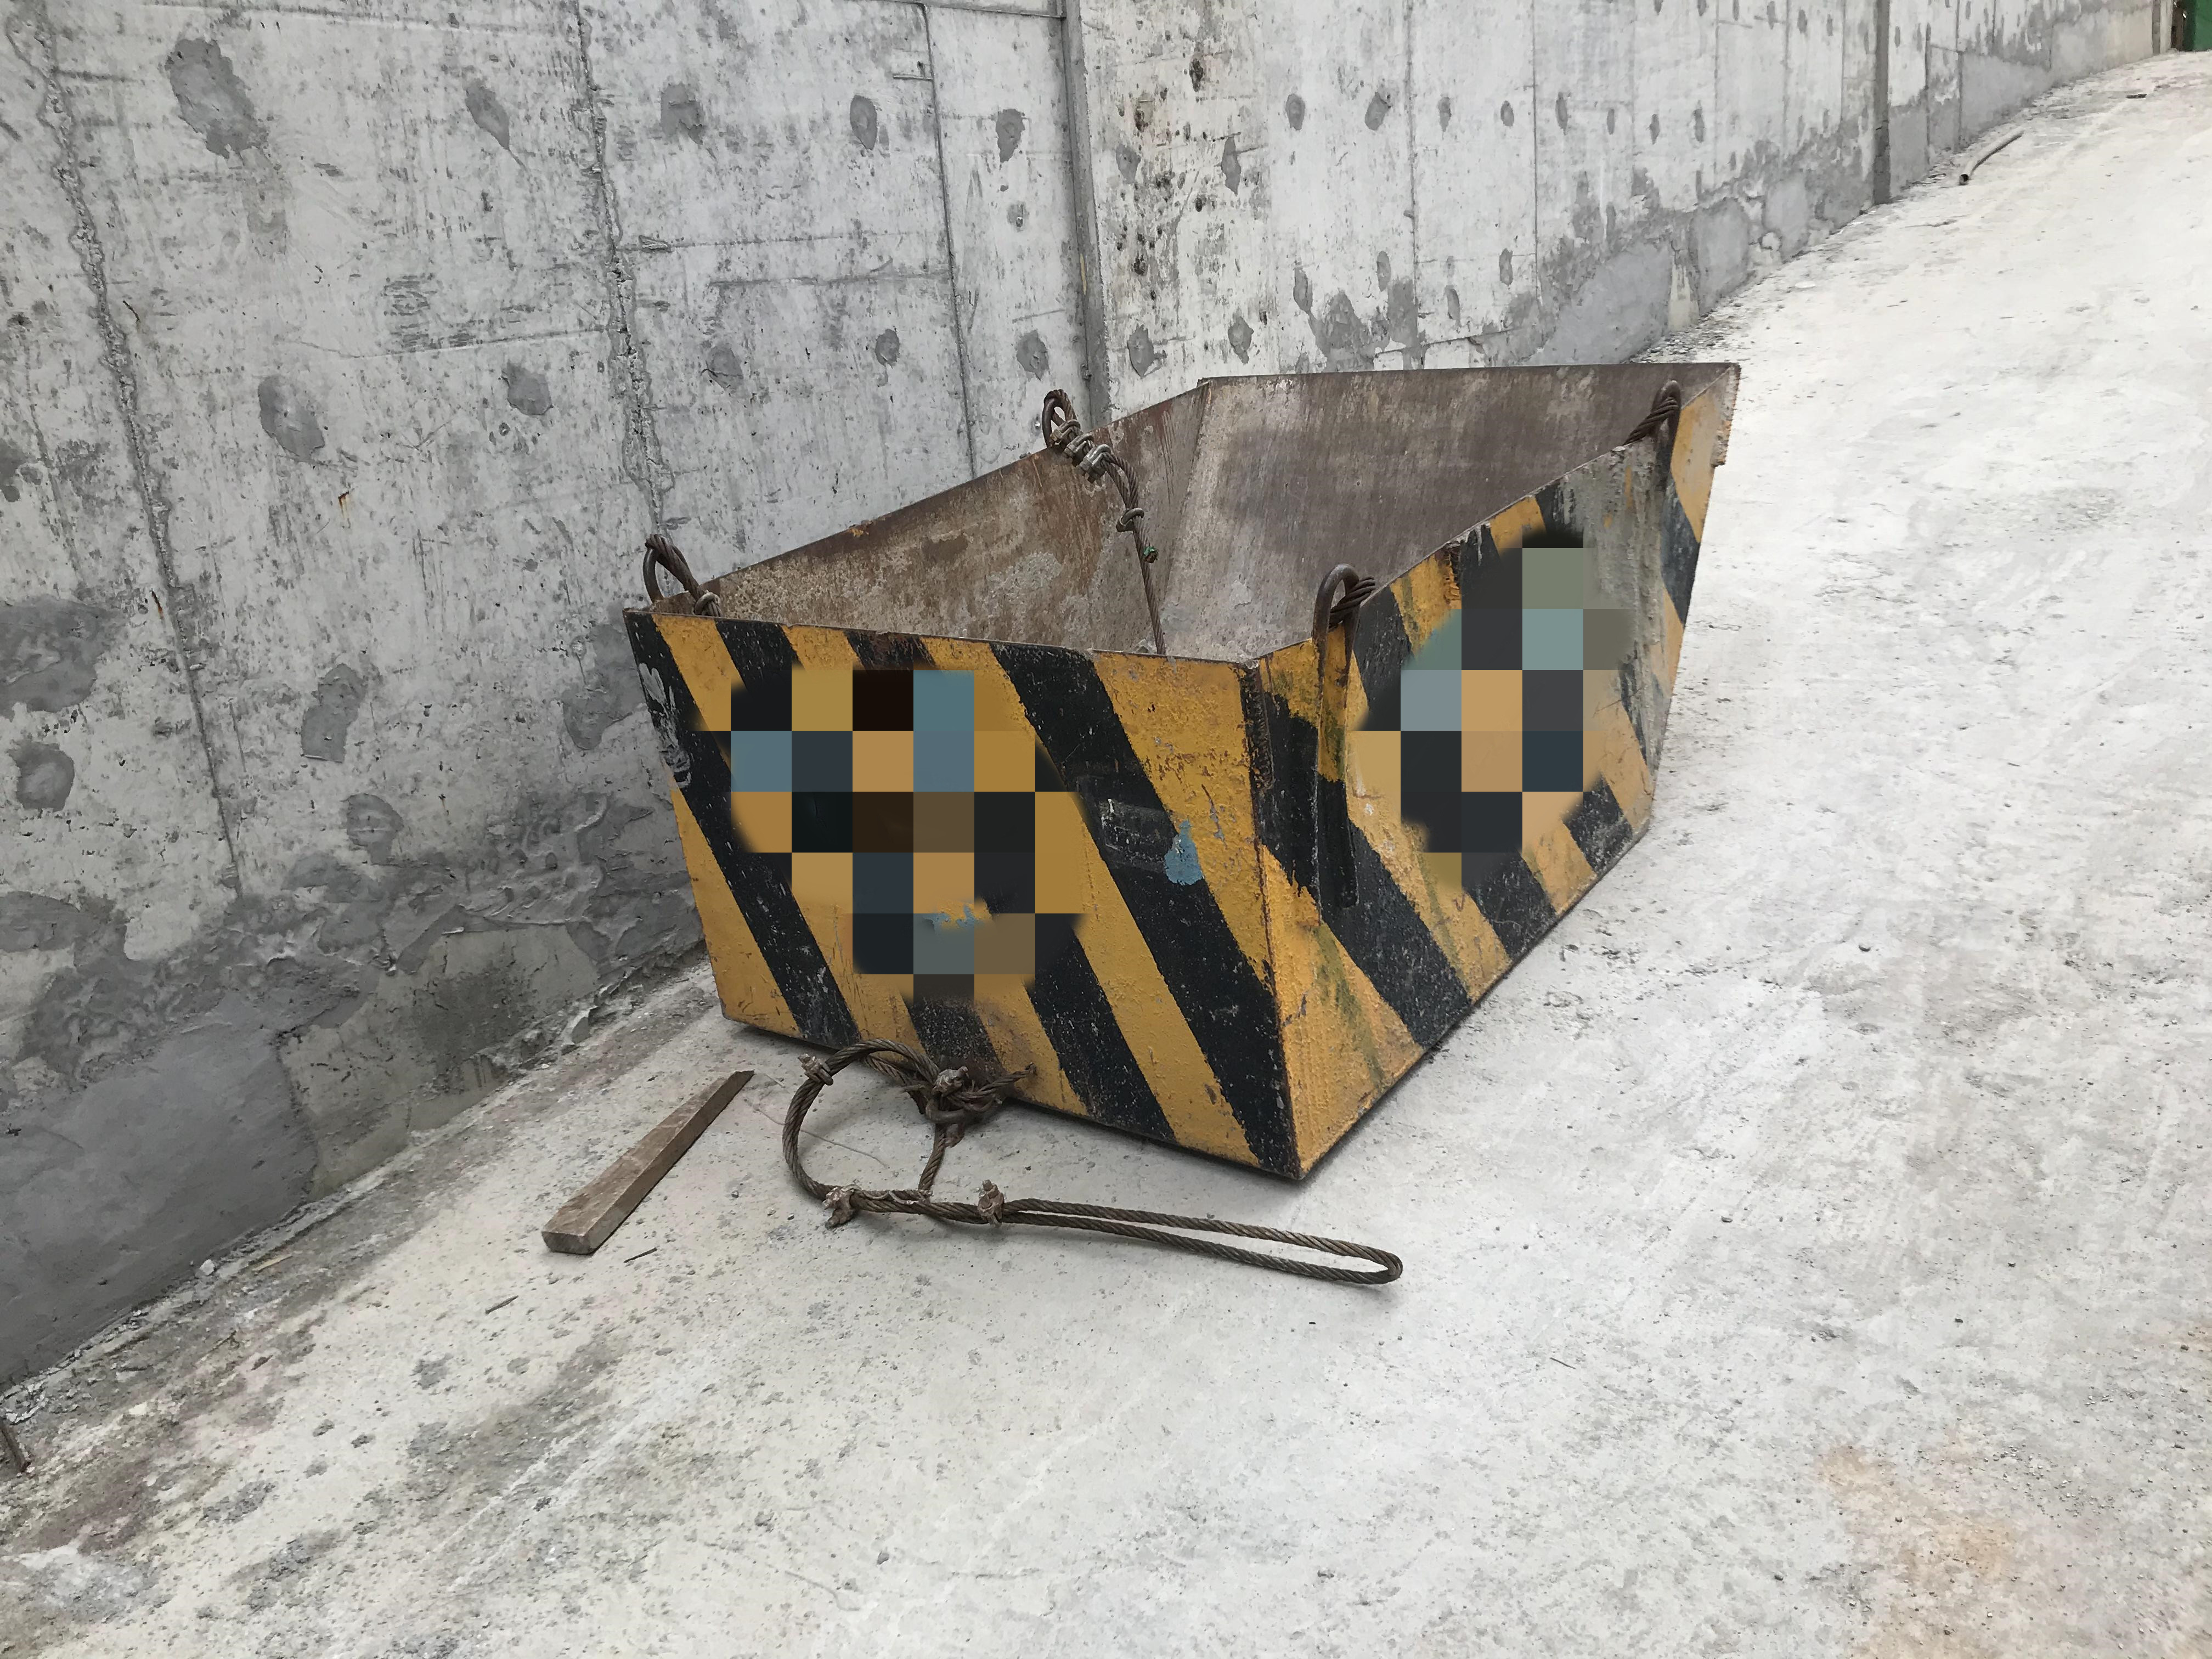hopper: (617, 350, 1773, 1195)
